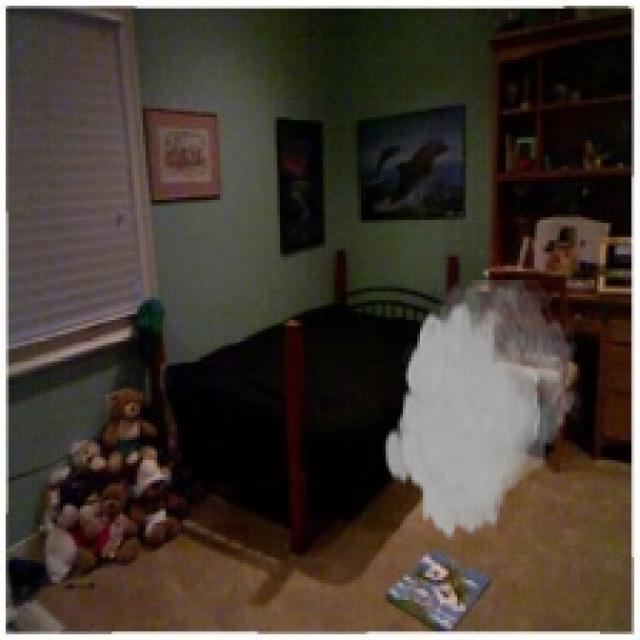Smoke: (383, 280, 583, 543)
